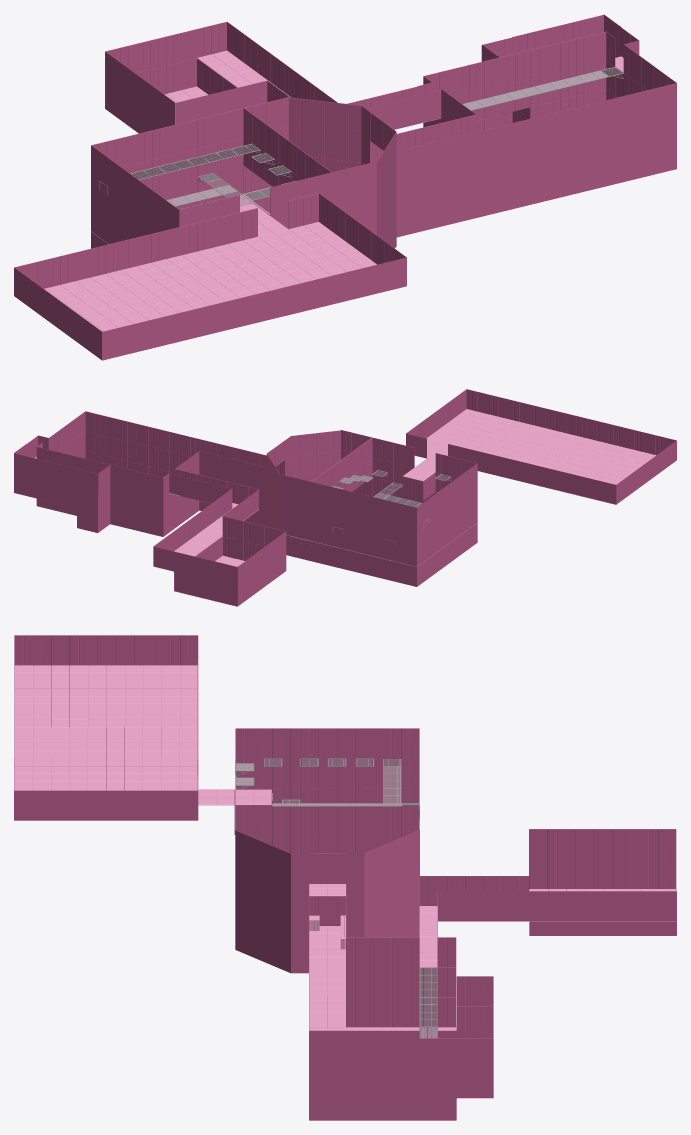
File: NEWLEVEL_Model.fbx
The picture shows the model from 3 angles, top to bottom: view 1: azimuth 30°, elevation 25°; view 2: azimuth 150°, elevation 25°; view 3: azimuth 270°, elevation 25°; orthographic projection. The views are drawn at different scales.
Parts seen in each view (by area): view 1: polySurface405; view 2: polySurface405; view 3: polySurface405.
Boxes of the visible parts, bbox=[...] form: polySurface405: bbox=[14, 14, 676, 360]; polySurface405: bbox=[14, 389, 676, 606]; polySurface405: bbox=[14, 635, 676, 1120].
Bounding box in the file's own units: 19210 × 2890 × 14431.
Materials: 4 (3 with a texture image).
